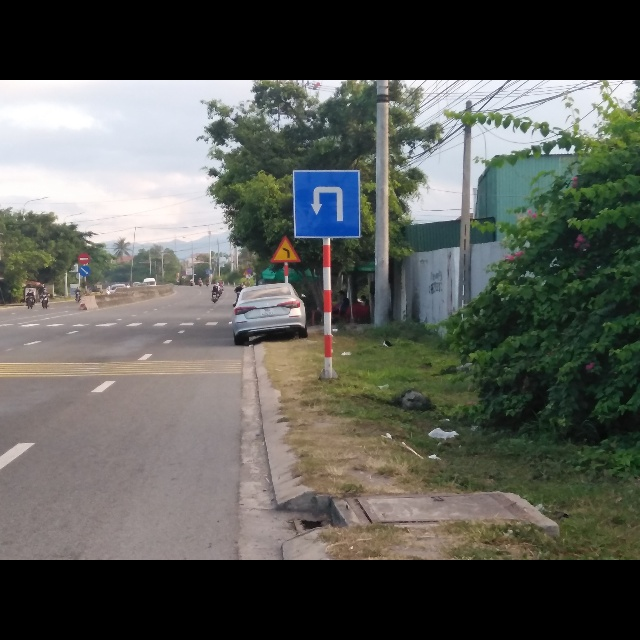Khu vực quay đầu xe: (292, 168, 362, 241)
